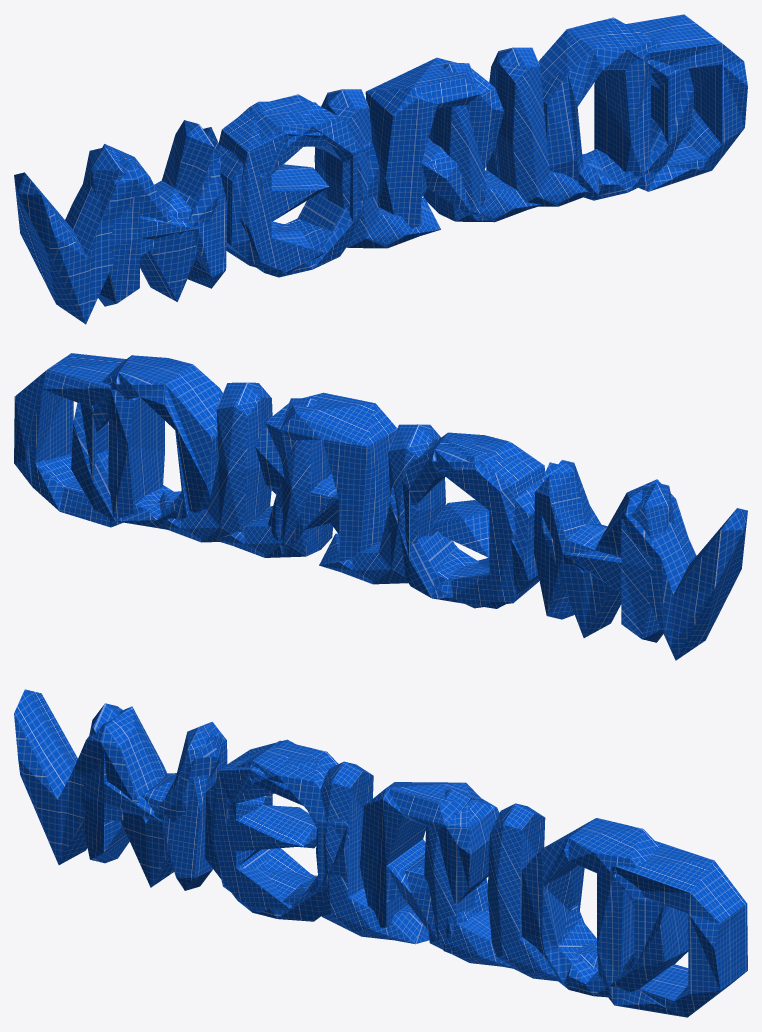
The model's file is hello-world.glb.
3 renders of one model, top to bottom at view 1: azimuth 30°, elevation 25°; view 2: azimuth 150°, elevation 25°; view 3: azimuth 330°, elevation 25°, orthographic.
Visible parts, largest first — view 1: World mesh, Hello mesh; view 2: World mesh, Hello mesh; view 3: World mesh, Hello mesh.
Part boxes in pixels (bbox=[...]): World mesh: bbox=[14, 14, 747, 324]; Hello mesh: bbox=[83, 17, 693, 306]; World mesh: bbox=[14, 353, 747, 660]; Hello mesh: bbox=[71, 355, 674, 642]; World mesh: bbox=[14, 689, 747, 1017]; Hello mesh: bbox=[80, 703, 688, 997].
Size of the model in its own units: 338 by 72.23 by 30.
2 materials, 2 textured.
